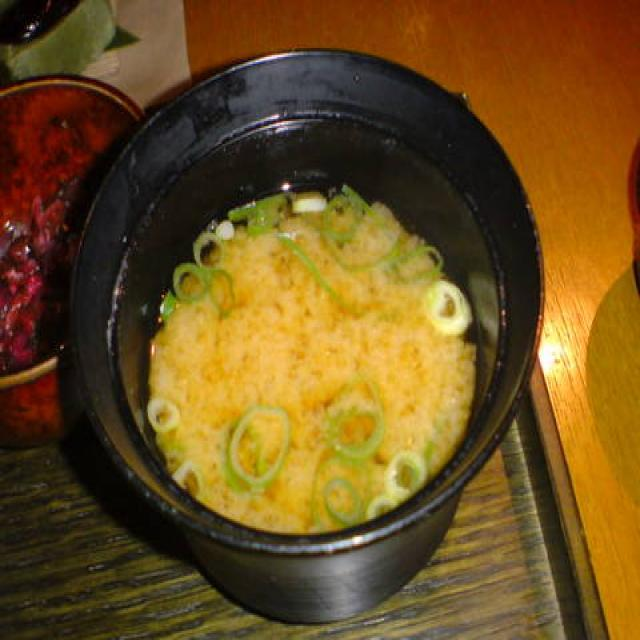汤锅炖物: (29, 55, 566, 592)
